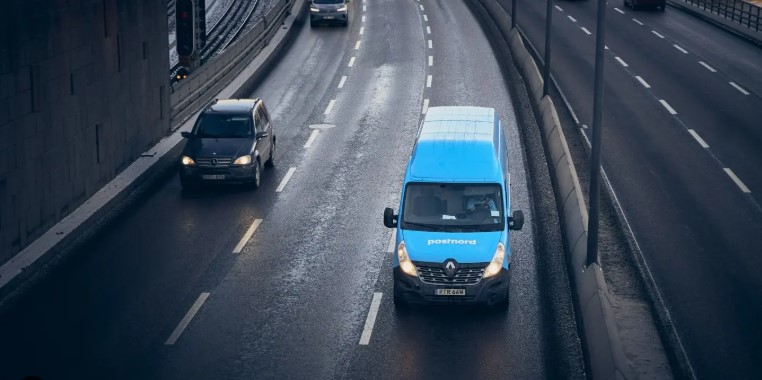car: (175, 96, 280, 197), (308, 0, 351, 31)
postnord: (382, 104, 526, 315)
